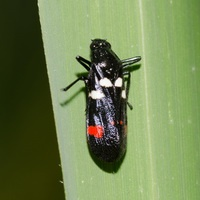insect: (62, 39, 140, 161)
